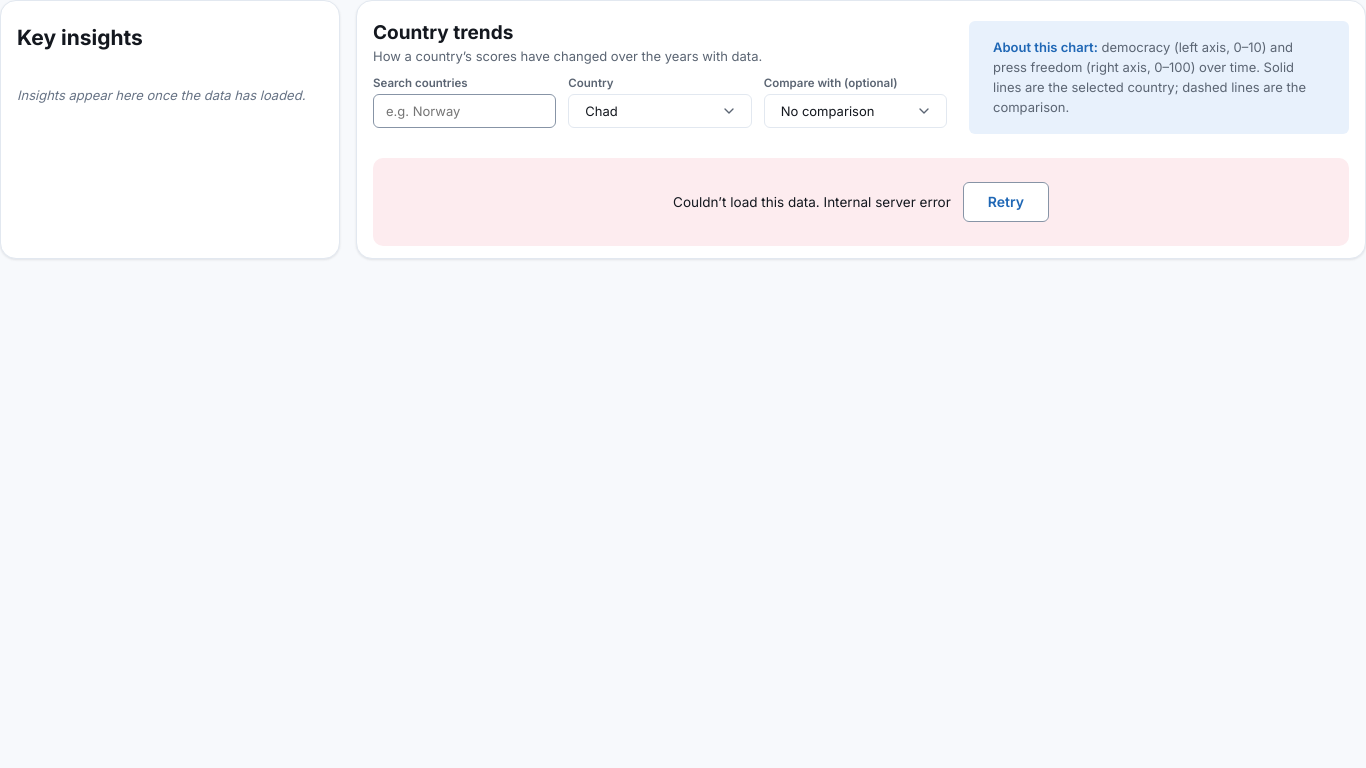
Country trends › shows an error with Retry when a country fails to load
The width and height of the screenshot is (1366, 768).
Expected: the message shows "Internal server error", [824,194,951,210]
Click the button "Retry": (1006, 202) [963,182,1049,222]
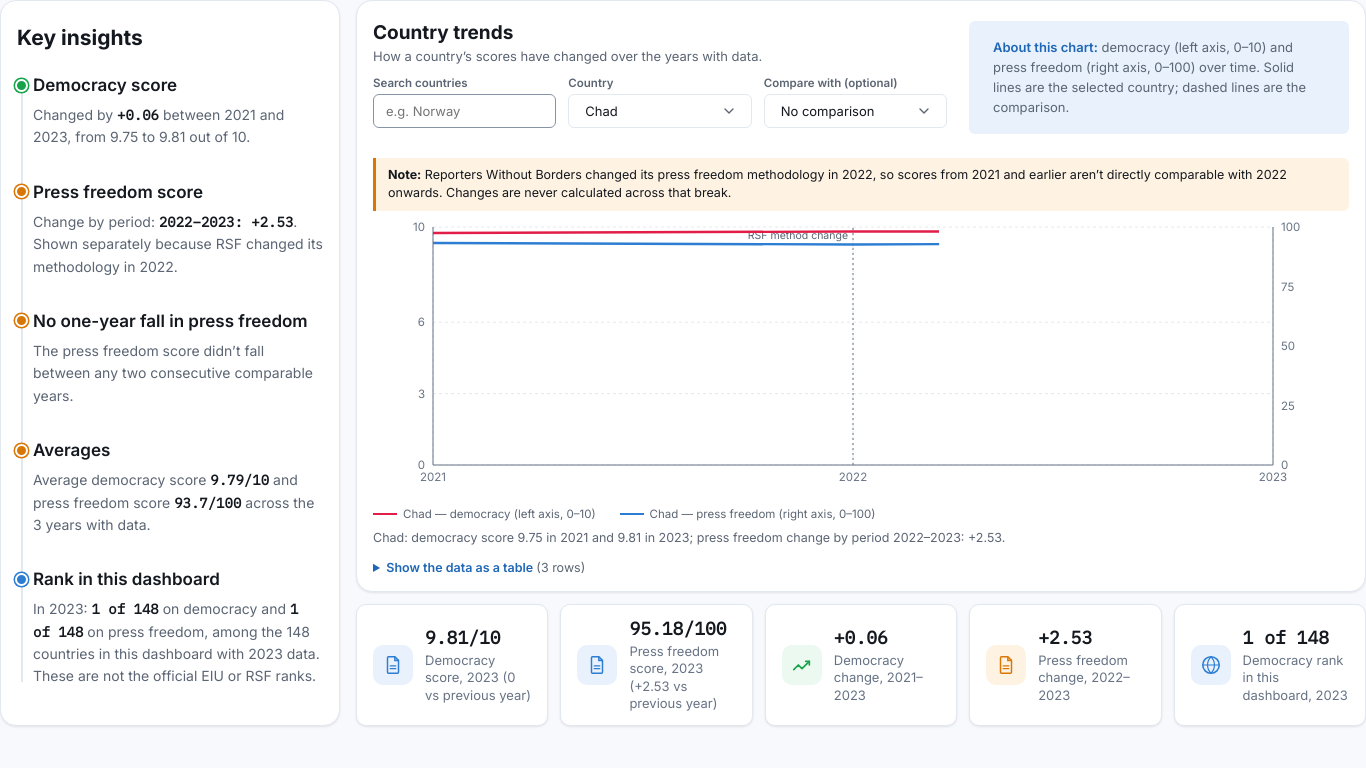
Now the heading "Rank in this dashboard" is shown, box [33,569,220,589]
